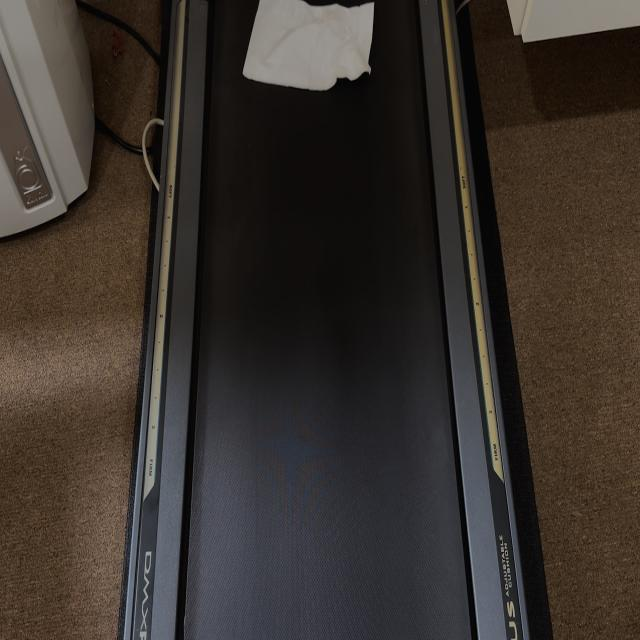Recycle: (242, 0, 376, 90)
